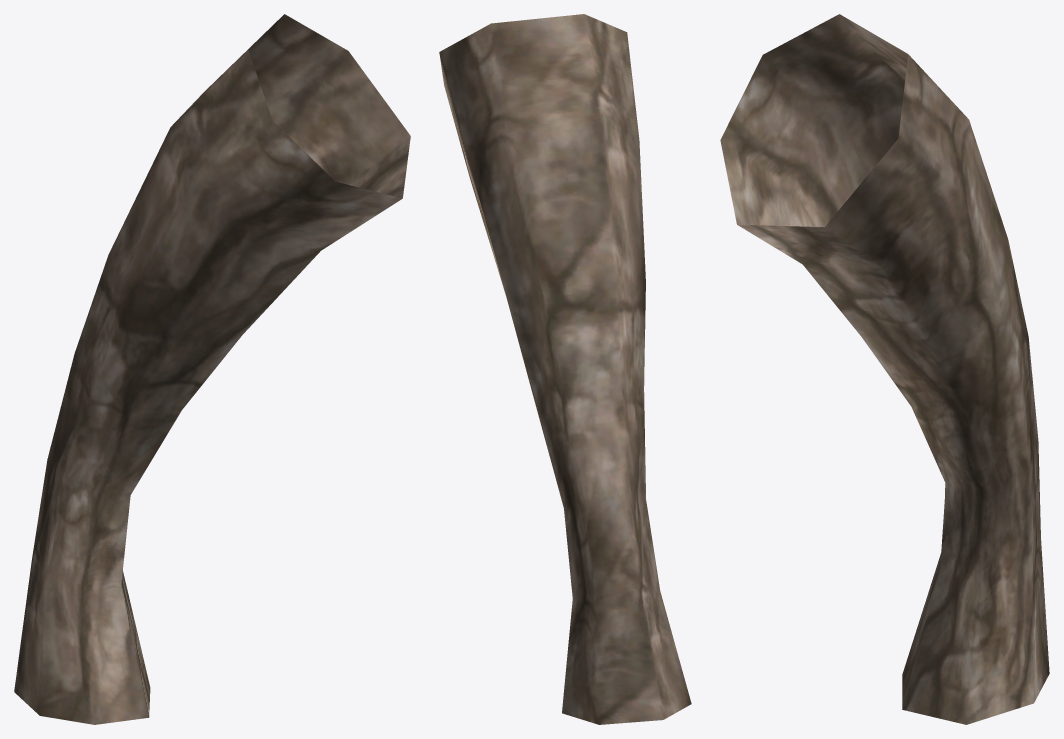
File: EKH_JAIL_PS_JA_GR_CYLINDER23.fbx
The picture shows the model from 3 angles, left to right: view 1: azimuth 30°, elevation 25°; view 2: azimuth 150°, elevation 25°; view 3: azimuth 270°, elevation 25°; orthographic projection. The views are drawn at different scales.
Parts seen in each view (by area): view 1: EKH_JAIL_PS_JA_GR_CYLINDER23; view 2: EKH_JAIL_PS_JA_GR_CYLINDER23; view 3: EKH_JAIL_PS_JA_GR_CYLINDER23.
Boxes of the visible parts, x1,y1,x2,y2 form: EKH_JAIL_PS_JA_GR_CYLINDER23: (14,14,410,724); EKH_JAIL_PS_JA_GR_CYLINDER23: (439,14,691,724); EKH_JAIL_PS_JA_GR_CYLINDER23: (720,14,1049,724).
Size of the model in its own units: 39393 by 79686 by 32427.
1 material, 1 textured.
